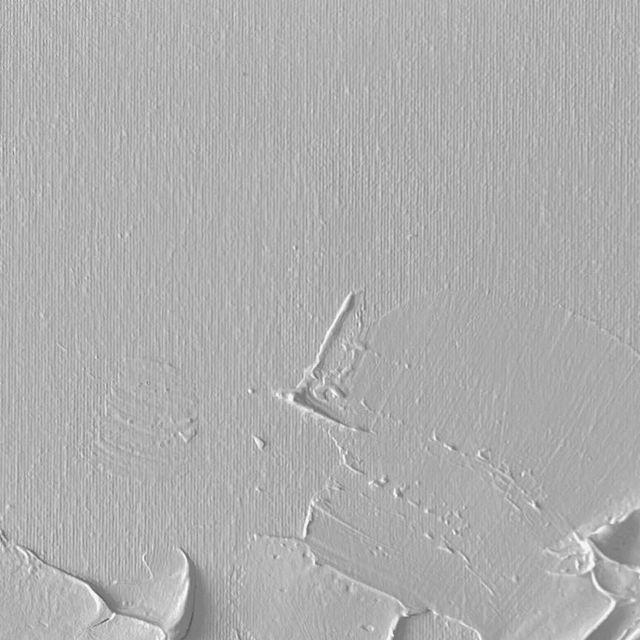trowels marks: (0, 277, 640, 640)
